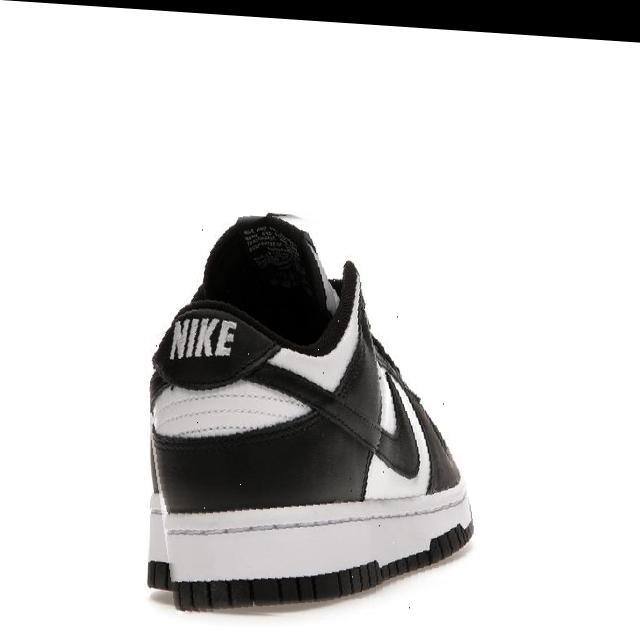J1_InsoleChar: (3, 3, 635, 636)
J1_MateComp: (145, 211, 475, 613)
J1_StitchPattern: (165, 518, 474, 612), (150, 312, 313, 441), (160, 492, 472, 539), (150, 380, 313, 439), (166, 313, 239, 362), (239, 221, 303, 272)
